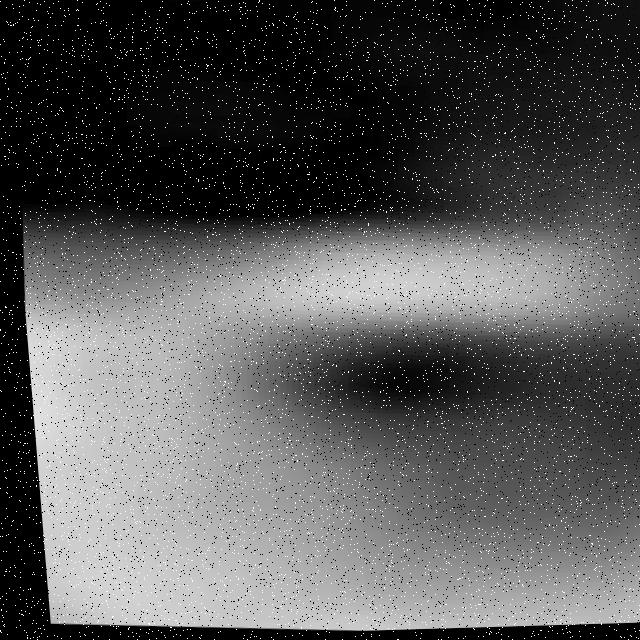person: (7, 79, 640, 640)
